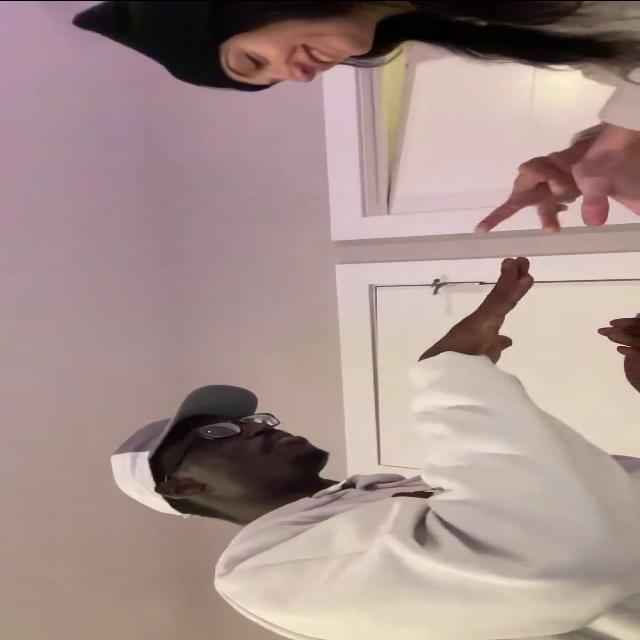Paper: (418, 256, 538, 361)
Scissors: (477, 153, 580, 234)
